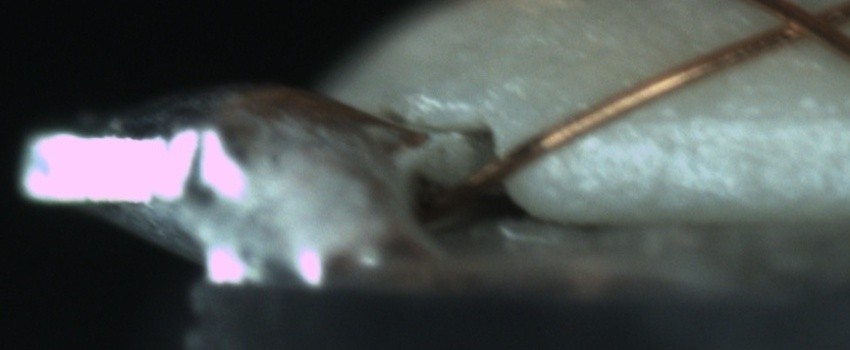CL: (756, 2, 846, 54)
DL: (622, 84, 847, 156)
